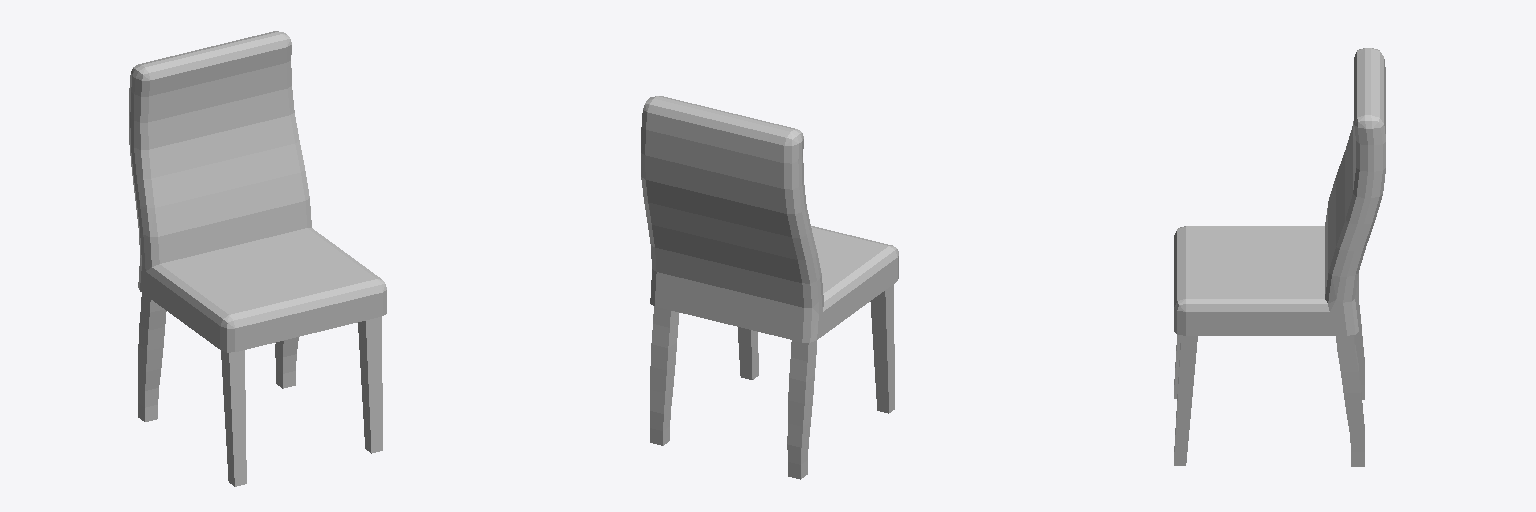
Rendered from chair.obj.
The picture shows the model from 3 angles: view 1: azimuth 30°, elevation 25°; view 2: azimuth 150°, elevation 25°; view 3: azimuth 270°, elevation 25°; orthographic projection.
Size of the model in its own units: 1.93 by 3.89 by 2.15.